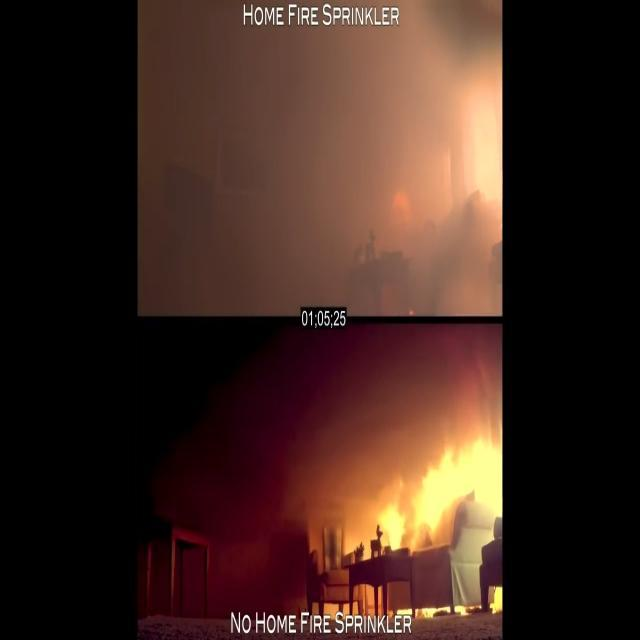Fire: (354, 391, 484, 618)
